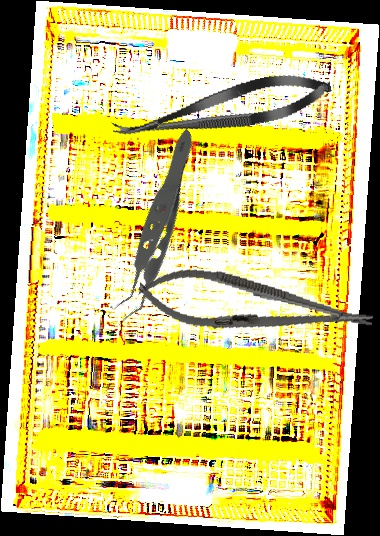Micro Scissor: (108, 64, 336, 154)
Needle Holder: (134, 259, 377, 353)
Tissue Forceps: (47, 126, 257, 330)
